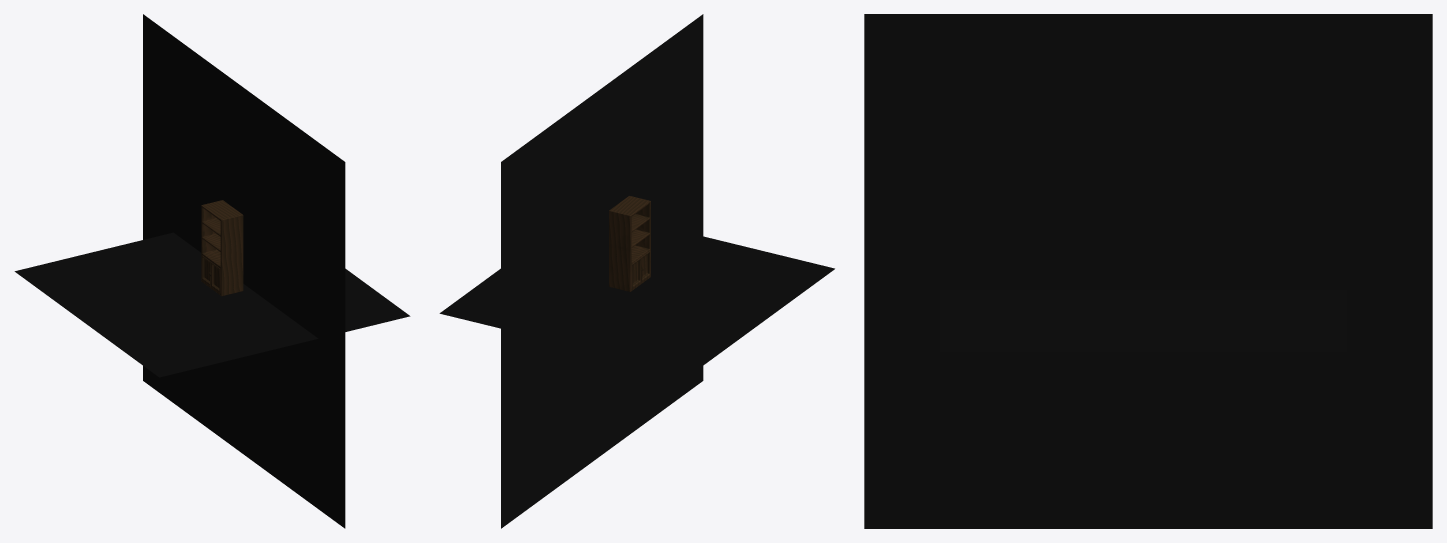
Rendered from furniture.fbx.
3 renders of one model, left to right at view 1: azimuth 30°, elevation 25°; view 2: azimuth 150°, elevation 25°; view 3: azimuth 270°, elevation 25°, orthographic. The views are drawn at different scales.
Parts seen in each view (by area): view 1: Plane.001, Plane, Cube; view 2: Plane.001, Plane, Cube; view 3: Plane.001, Plane.
Boxes of the visible parts, x1,y1,x2,y2 form: Plane.001: [143, 14, 345, 528]; Plane: [14, 232, 410, 377]; Cube: [201, 200, 243, 296]; Plane.001: [501, 14, 703, 528]; Plane: [439, 230, 834, 374]; Cube: [609, 196, 650, 291]; Plane.001: [864, 14, 1432, 528]; Plane: [939, 289, 1346, 352].
Bounding box in the file's own units: 2306 × 3218 × 3218.
Materials: 6 (4 with a texture image).
